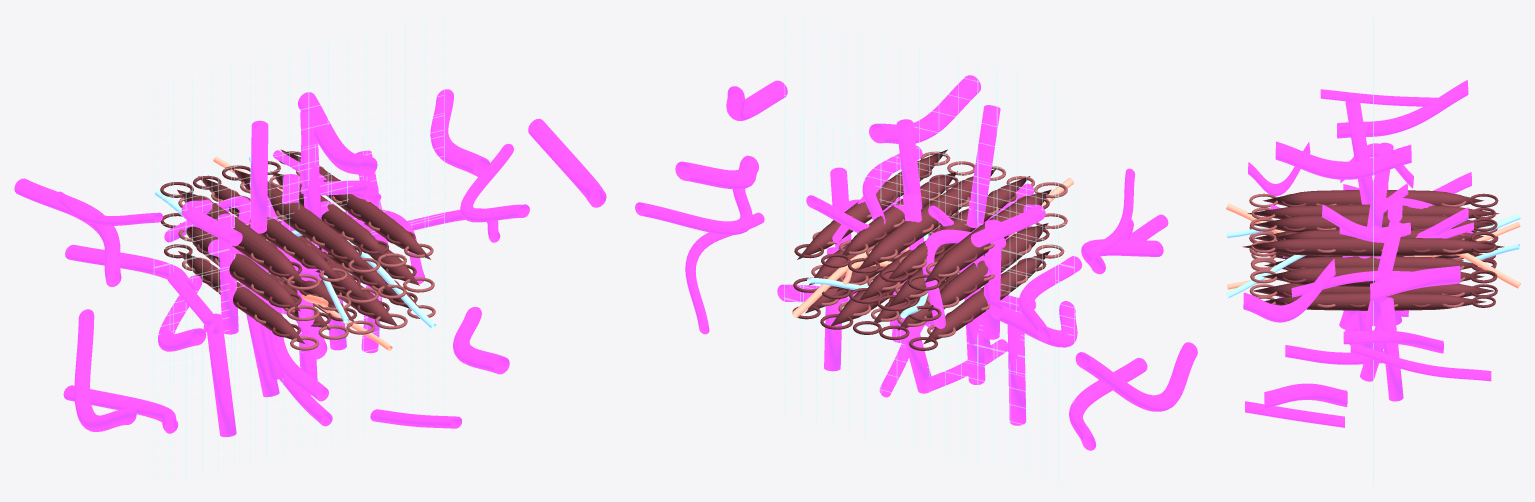
File: heart-tissue-progressing-3.glb
3 renders of one model, left to right at view 1: azimuth 30°, elevation 25°; view 2: azimuth 150°, elevation 25°; view 3: azimuth 270°, elevation 25°, orthographic. The views are drawn at different scales.
Parts seen in each view (by area): view 1: ECM_Bot, ECM_Top, Amy_8, Fibre_12, Amy_22, Amy_24, Amy_3, Amy_11, Fibre_5, Fibre_0, Fibre_14, AmySevere_6 (+26 smaller); view 2: ECM_Bot, ECM_Top, Amy_8, Fibre_12, Amy_11, AmySevere_6, Fibre_5, Amy_2, Fibre_0, Fibre_14, Fibre_10, Amy_3 (+29 smaller); view 3: Fibre_14, Amy_11, Fibre_4, Fibre_10, Amy_22, Fibre_12, Fibre_11, Fibre_8, Amy_3, Amy_24, Amy_18, Amy_21 (+25 smaller).
Part boxes in pixels (bbox=[...]): ECM_Bot: bbox=[154, 113, 444, 487]; ECM_Top: bbox=[154, 14, 444, 388]; Amy_8: bbox=[74, 309, 136, 431]; Fibre_12: bbox=[232, 168, 369, 269]; Amy_22: bbox=[14, 178, 121, 286]; Amy_24: bbox=[528, 118, 606, 207]; Amy_3: bbox=[430, 89, 490, 176]; Amy_11: bbox=[298, 92, 377, 176]; Fibre_5: bbox=[180, 223, 300, 311]; Fibre_0: bbox=[178, 251, 304, 343]; Fibre_14: bbox=[280, 149, 430, 259]; AmySevere_6: bbox=[250, 120, 268, 233]; ECM_Bot: bbox=[784, 113, 1074, 487]; ECM_Top: bbox=[784, 14, 1074, 388]; Amy_8: bbox=[1075, 342, 1197, 411]; Fibre_12: bbox=[858, 168, 996, 269]; Amy_11: bbox=[869, 75, 980, 143]; AmySevere_6: bbox=[966, 105, 1000, 228]; Fibre_5: bbox=[928, 223, 1048, 311]; Amy_2: bbox=[635, 188, 753, 234]; Fibre_0: bbox=[923, 251, 1050, 344]; Fibre_14: bbox=[797, 149, 947, 259]; Fibre_10: bbox=[924, 189, 1051, 282]; Amy_3: bbox=[675, 155, 758, 189]; Fibre_14: bbox=[1242, 237, 1504, 256]; Amy_11: bbox=[1275, 141, 1411, 179]; Fibre_4: bbox=[1264, 293, 1485, 310]; Fibre_10: bbox=[1263, 190, 1483, 205]; Amy_22: bbox=[1337, 80, 1468, 138]; Fibre_12: bbox=[1253, 214, 1493, 232]; Fibre_11: bbox=[1247, 204, 1498, 219]; Fibre_8: bbox=[1264, 256, 1477, 269]; Amy_3: bbox=[1370, 265, 1460, 301]; Amy_24: bbox=[1243, 258, 1335, 322]; Amy_18: bbox=[1350, 344, 1491, 381]; Amy_21: bbox=[1264, 383, 1347, 408].
Bounding box in the file's own units: 6.68 × 5.3 × 4.04.
